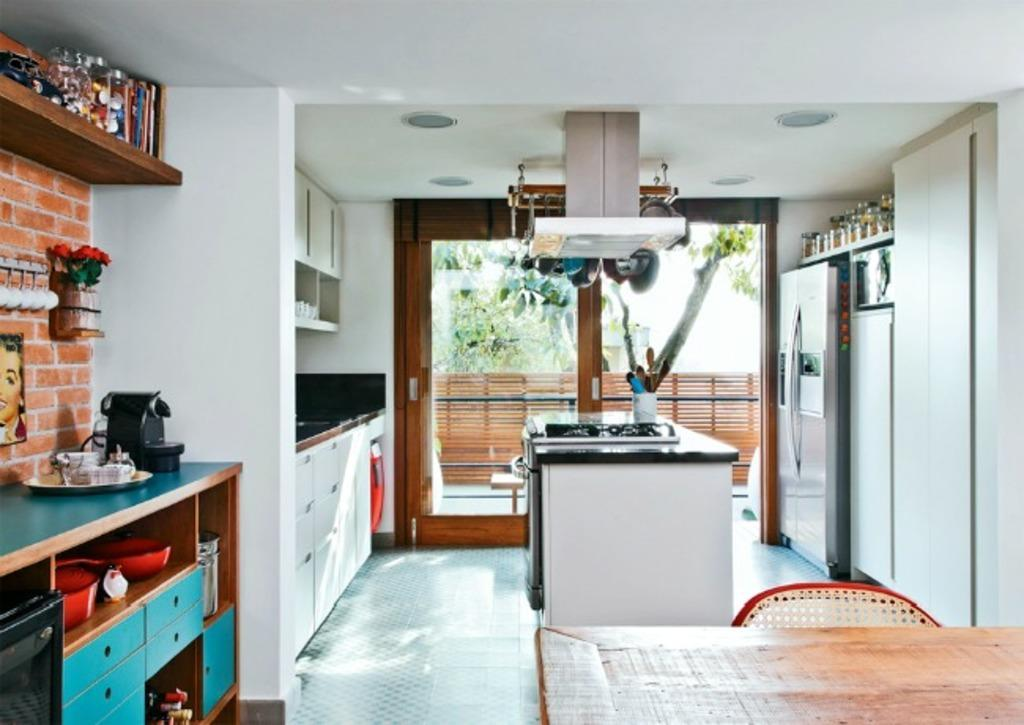door: (412, 224, 592, 541)
